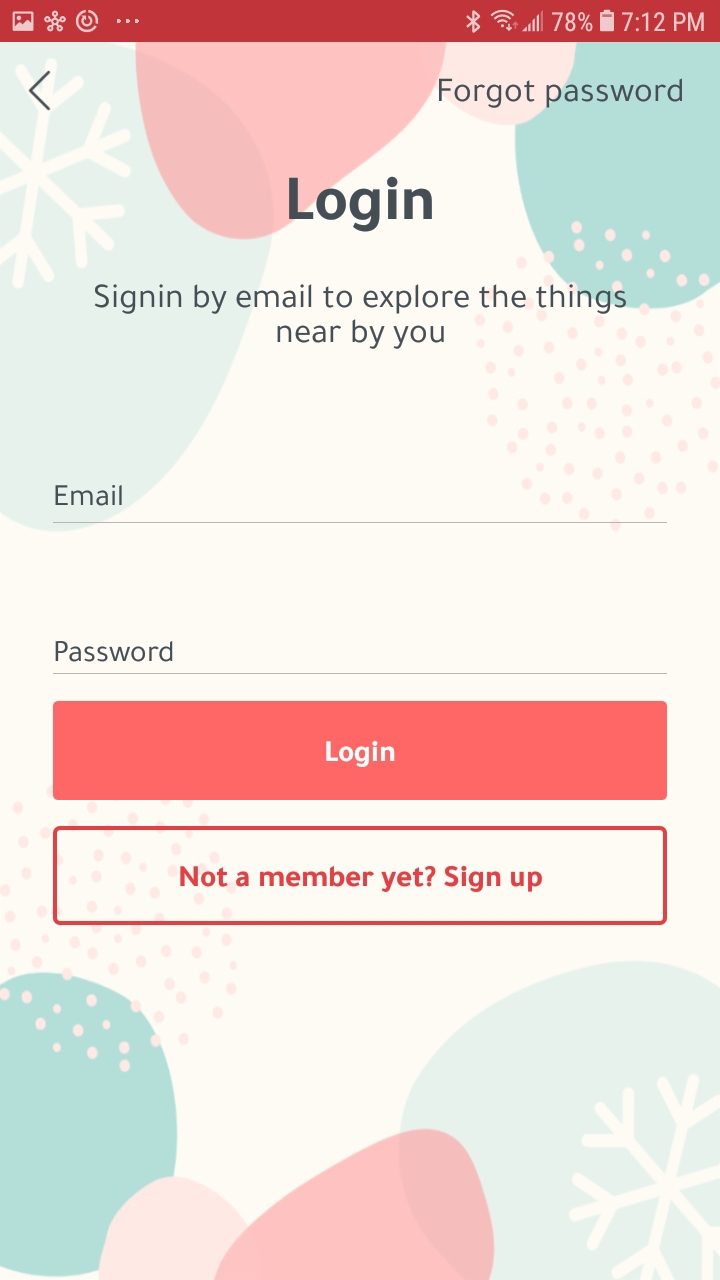BackgroundImage: (1, 43, 720, 1280)
EditText: (54, 484, 668, 524), (53, 640, 667, 675)
Icon: (29, 71, 51, 111)
Text: (95, 283, 627, 350), (288, 177, 433, 234), (439, 79, 683, 109), (55, 641, 173, 663), (55, 484, 124, 507)
TextButton: (54, 701, 668, 801), (54, 826, 668, 926)
UpperTaskBar: (1, 1, 720, 43)
